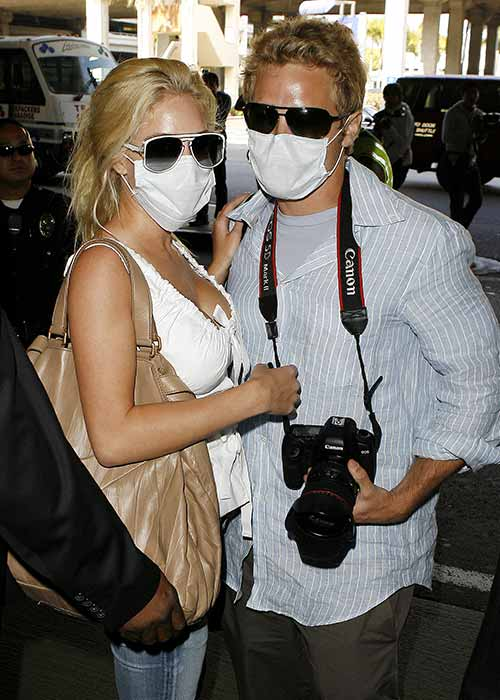mask: (129, 155, 216, 233), (245, 131, 339, 200)
